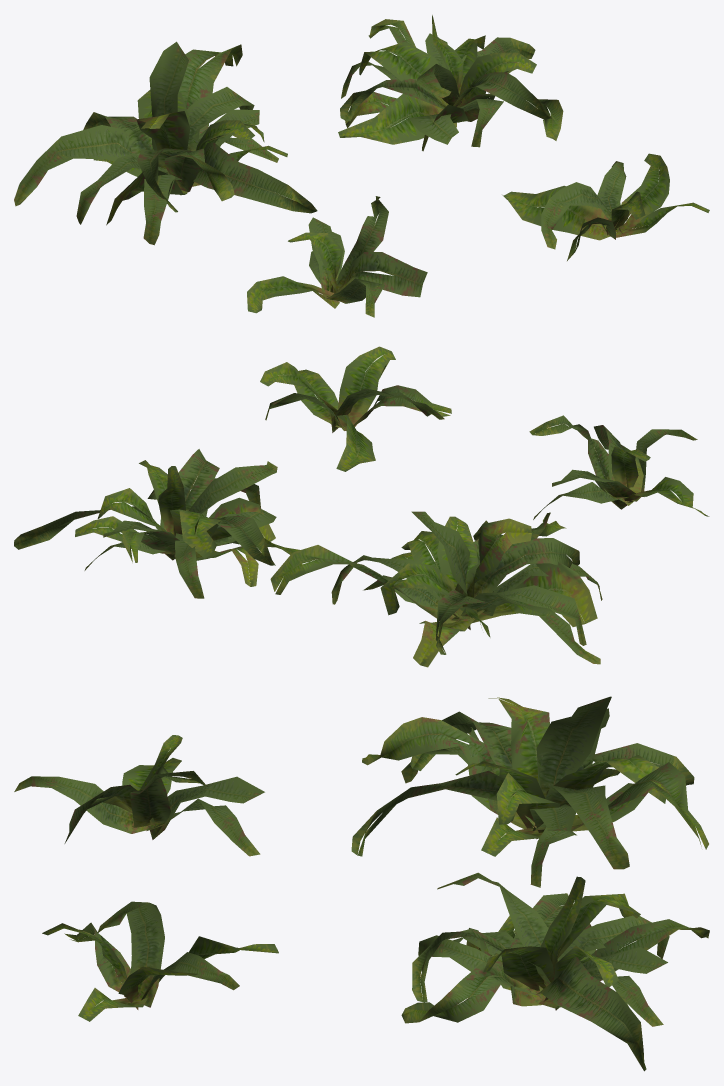
Rendered from fern.glb.
3 renders of one model, top to bottom at view 1: azimuth 30°, elevation 25°; view 2: azimuth 150°, elevation 25°; view 3: azimuth 270°, elevation 25°, orthographic. The views are drawn at different scales.
Visible parts, largest first — view 1: fern; view 2: fern; view 3: fern.
Boxes of the visible parts, bbox=[...] form: fern: bbox=[14, 15, 709, 317]; fern: bbox=[14, 346, 709, 667]; fern: bbox=[14, 696, 709, 1071].
Bounding box in the file's own units: 2.27 × 0.5 × 1.99.
Materials: 1 (1 with a texture image).
